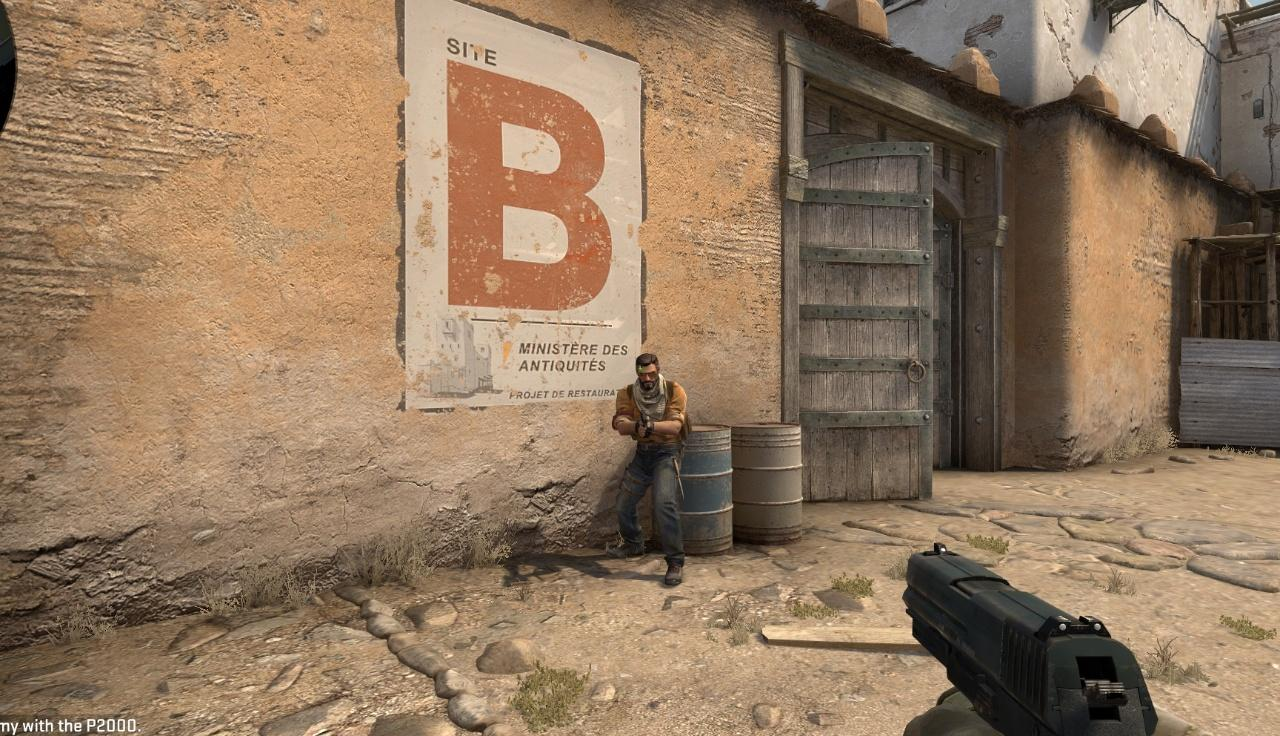pistol: (902, 542, 1226, 736)
tt: (612, 352, 687, 585)
tthead: (636, 352, 659, 389)
